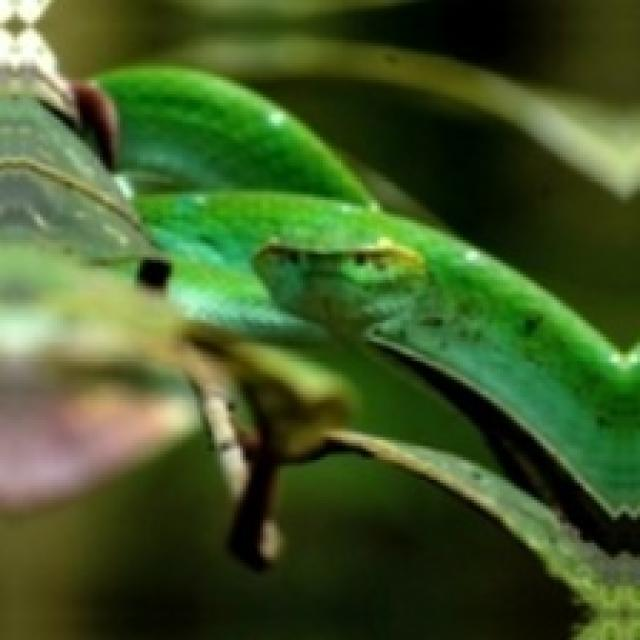north ph temple pitviper: (99, 68, 640, 517)
